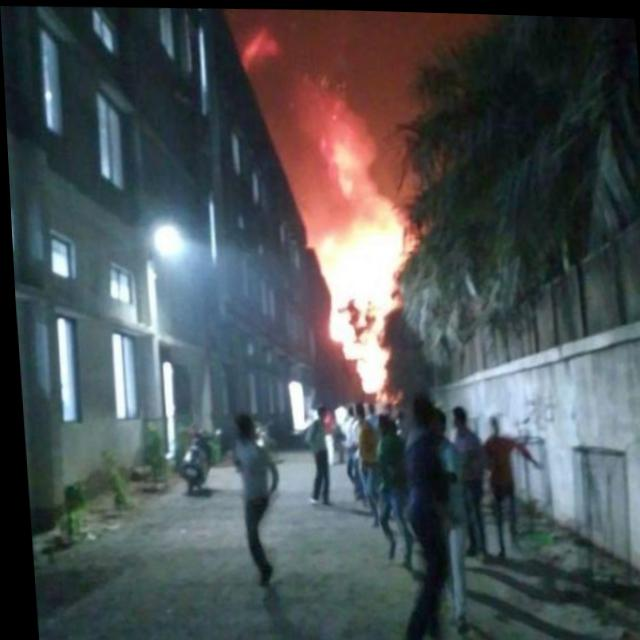fire: (281, 54, 425, 399), (234, 25, 283, 72)
